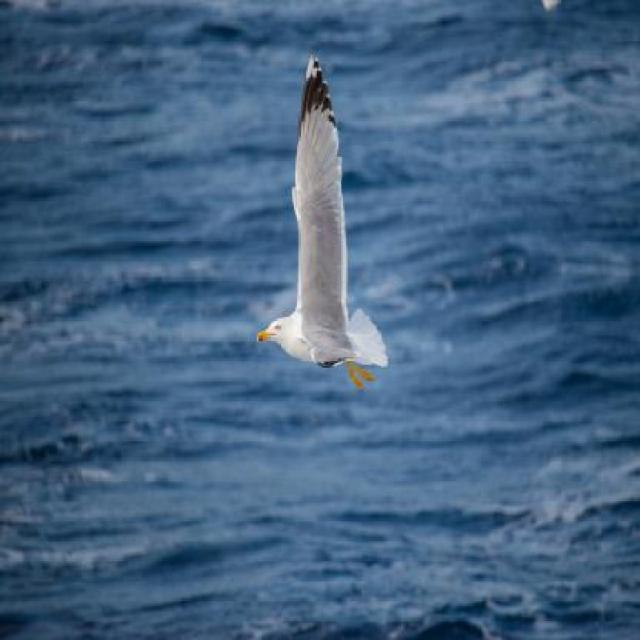bird: (254, 54, 388, 392)
